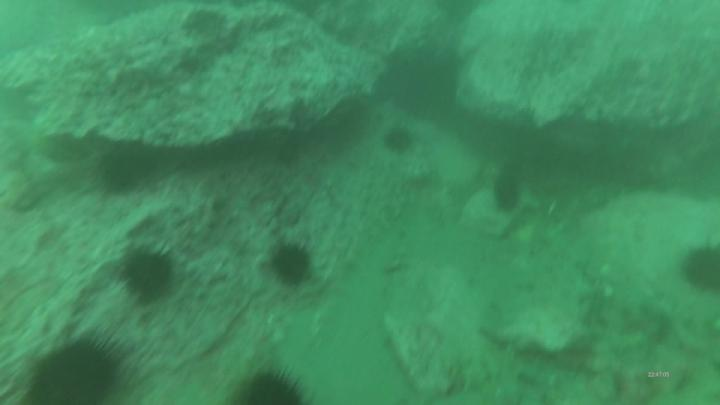echinus: (28, 331, 167, 405), (116, 242, 182, 308), (227, 362, 313, 405), (93, 148, 145, 199), (270, 239, 314, 290), (682, 238, 720, 296), (488, 172, 525, 215), (382, 127, 418, 158)
